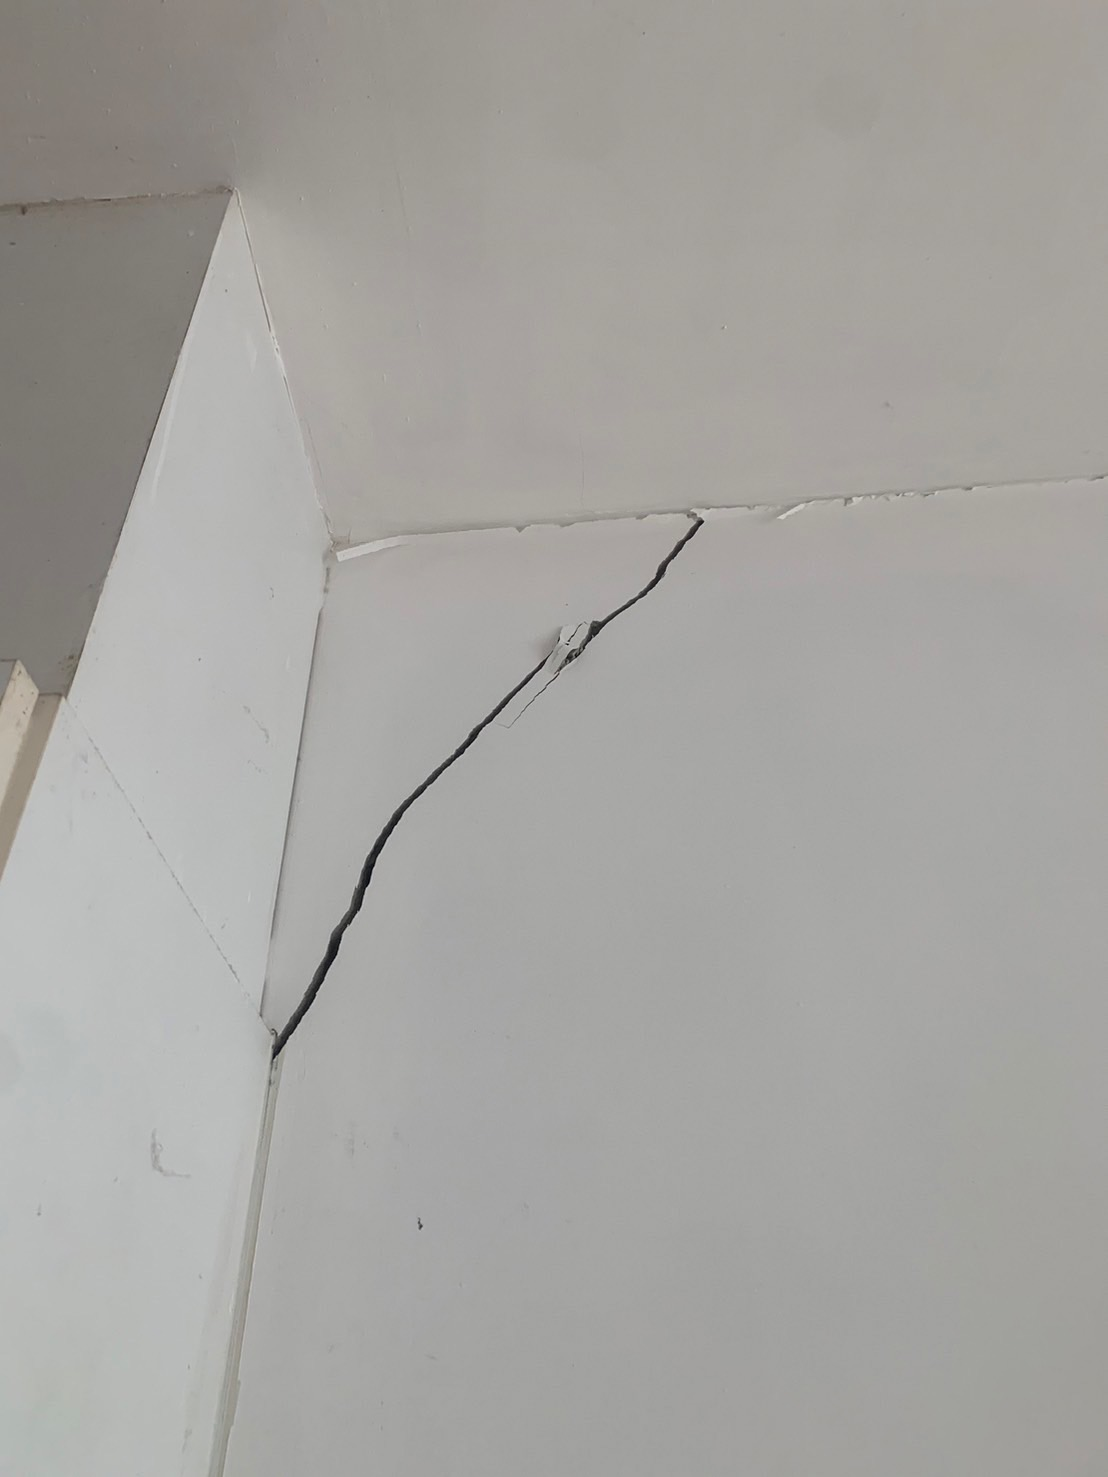High: (269, 482, 1089, 1098)
